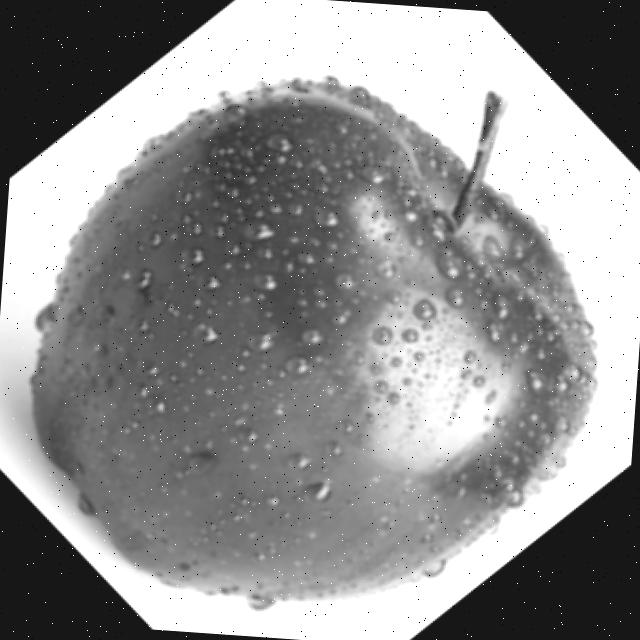Ripe: (11, 48, 630, 627)
